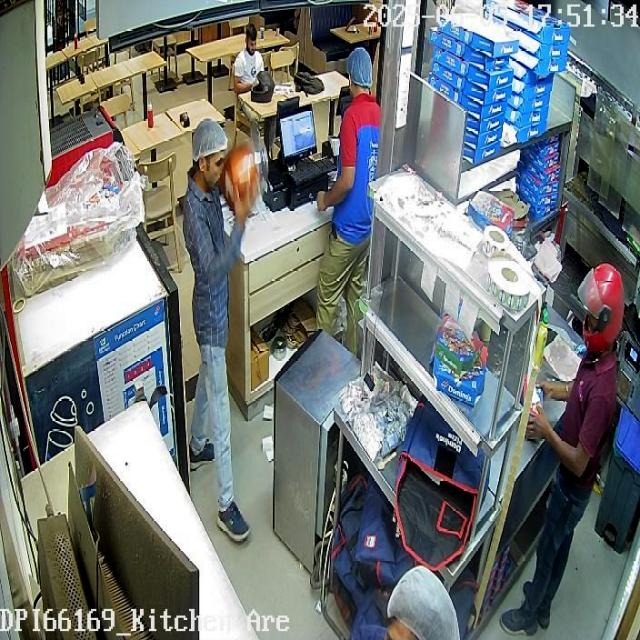helmet: (578, 261, 625, 352)
